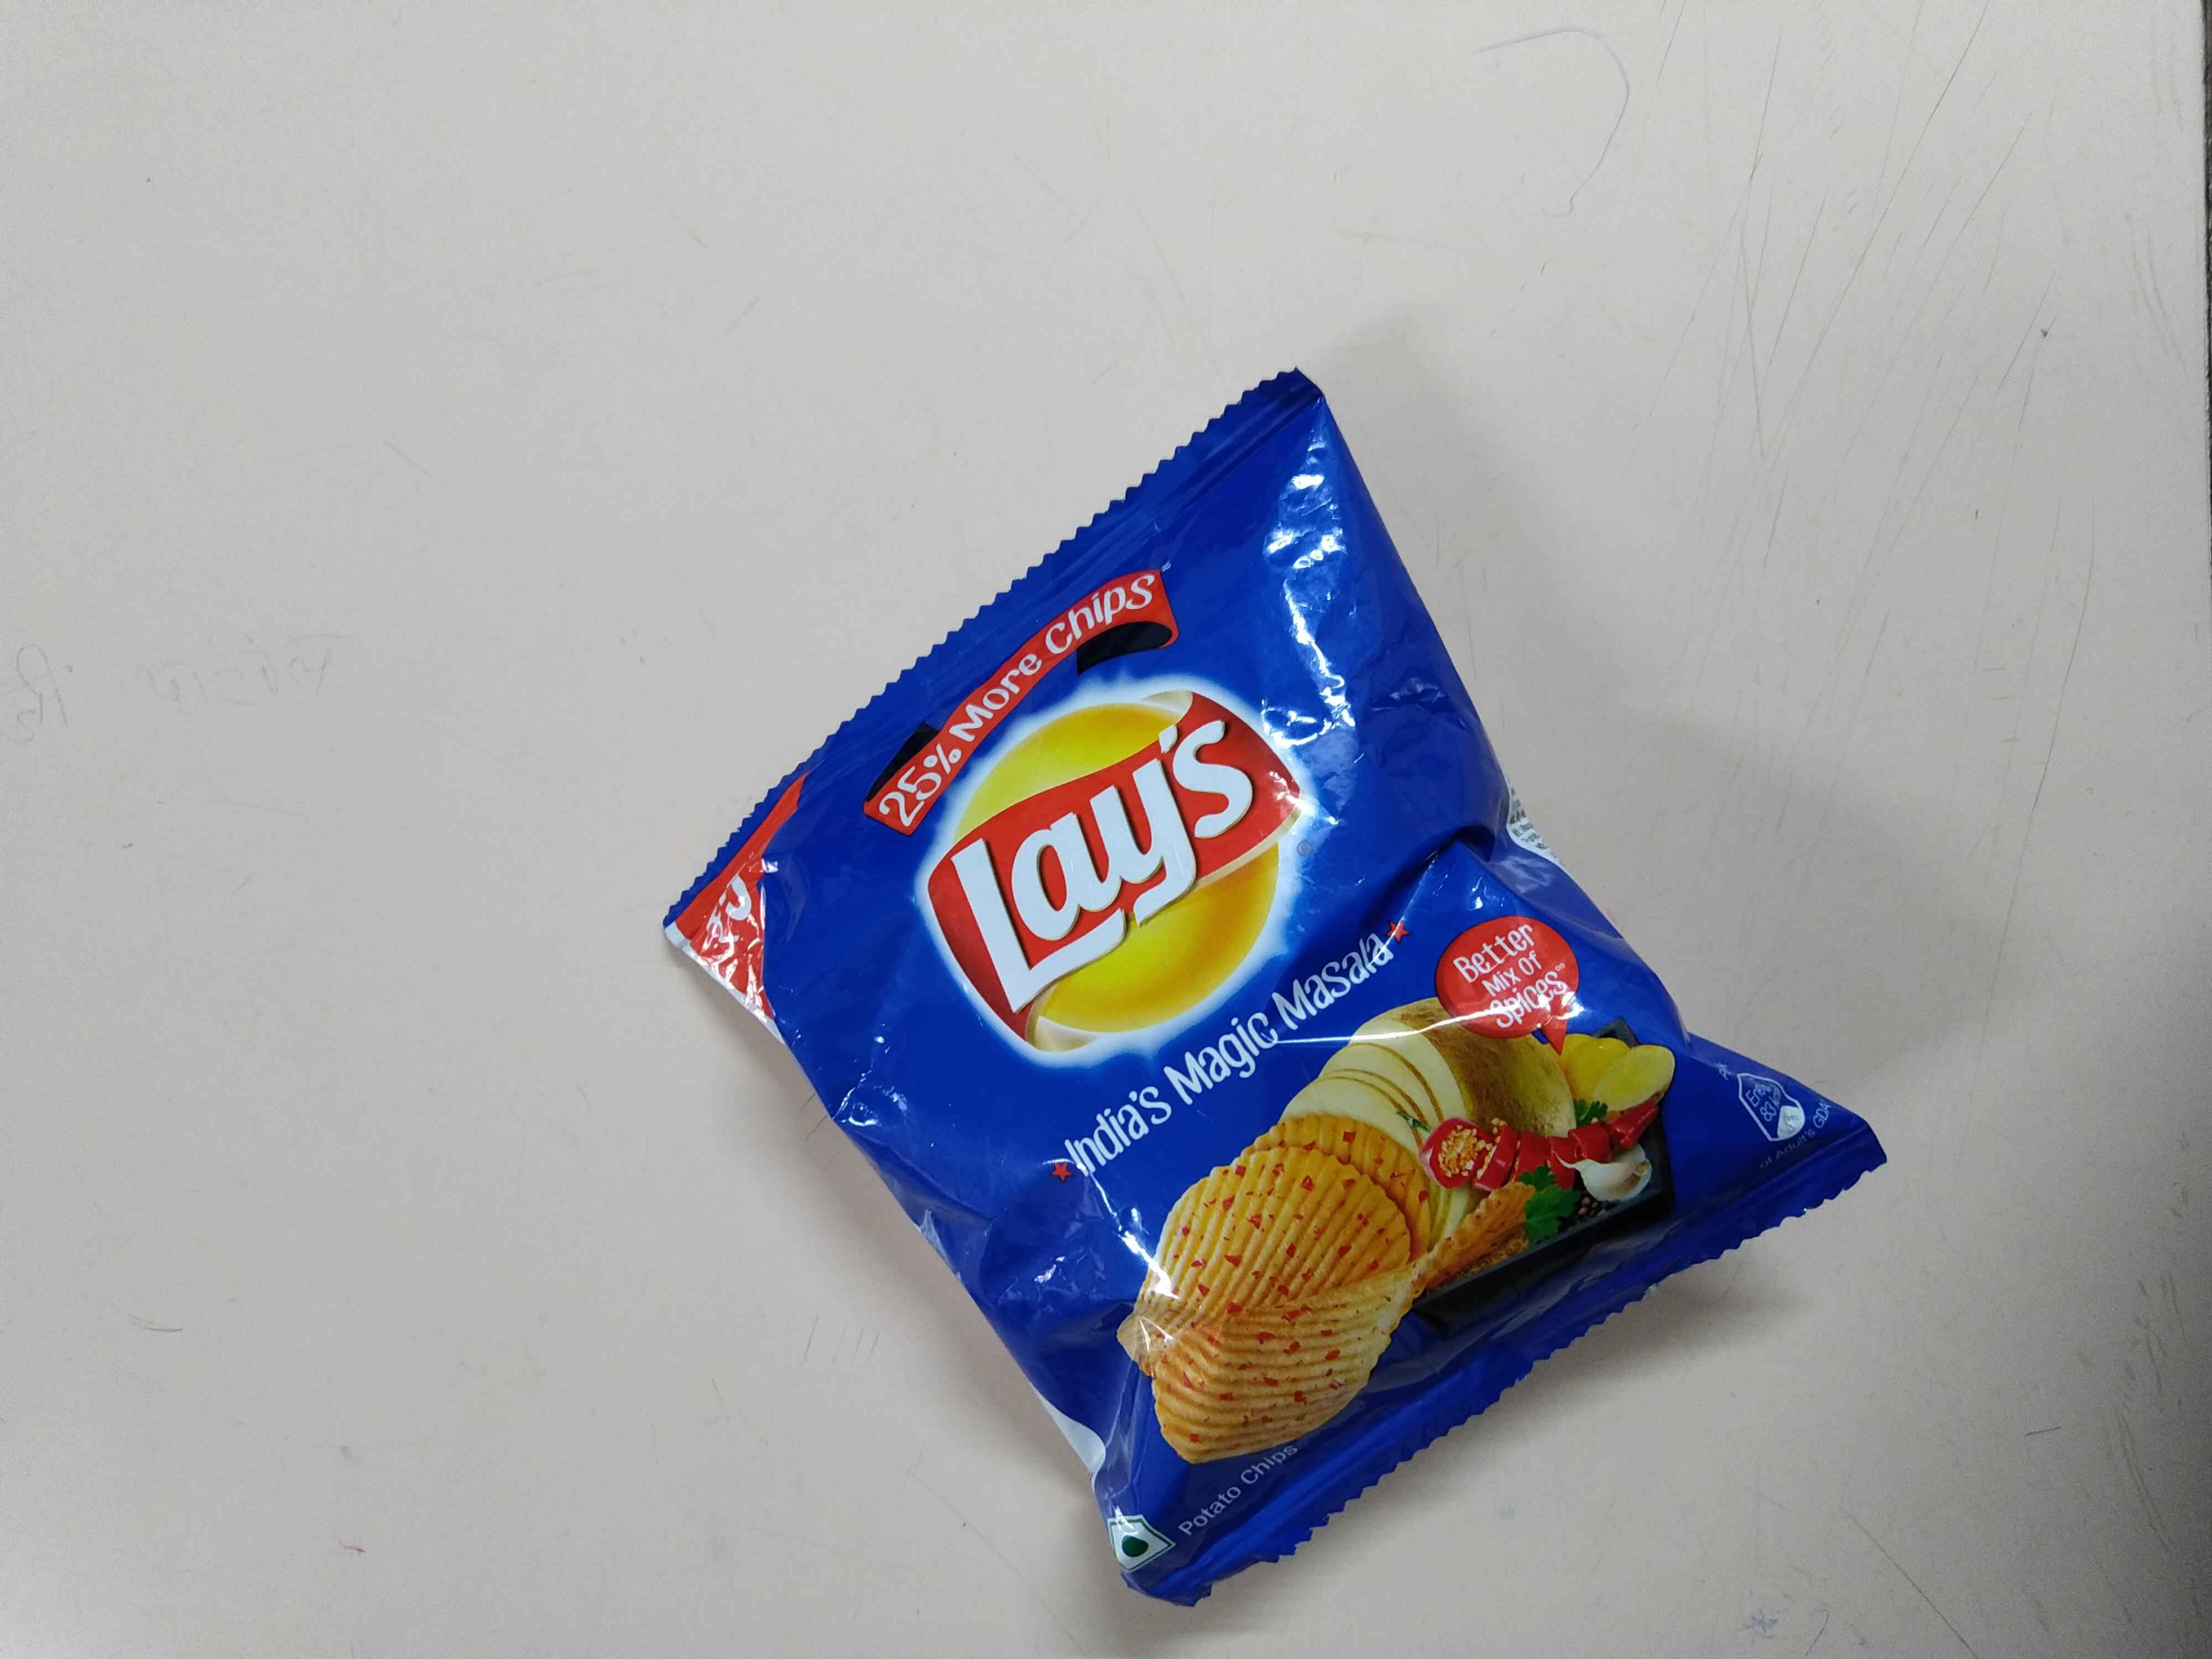Lays: (923, 680, 1315, 1072)
